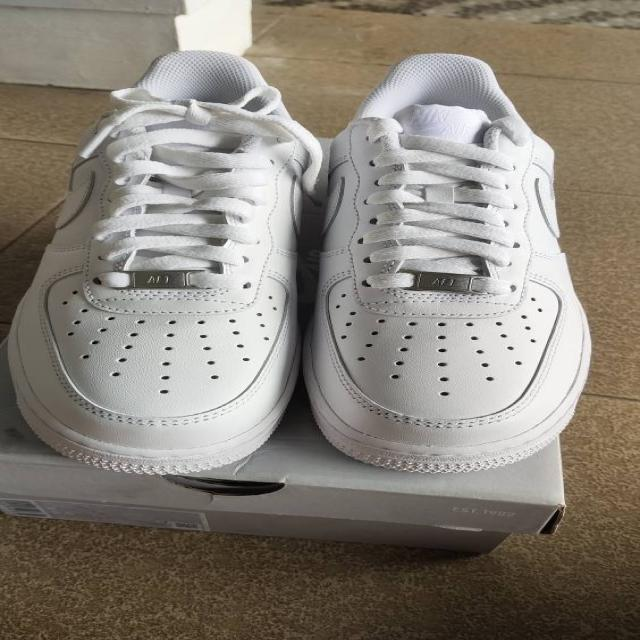nike original air force: (0, 46, 329, 478), (297, 49, 598, 477)
